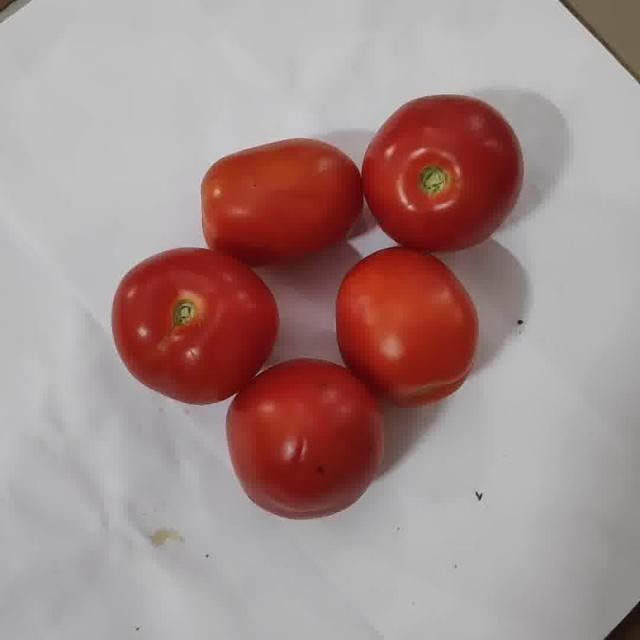Tomato: (113, 248, 278, 404), (361, 95, 523, 252), (227, 359, 382, 517), (336, 247, 478, 404), (201, 139, 362, 266)
